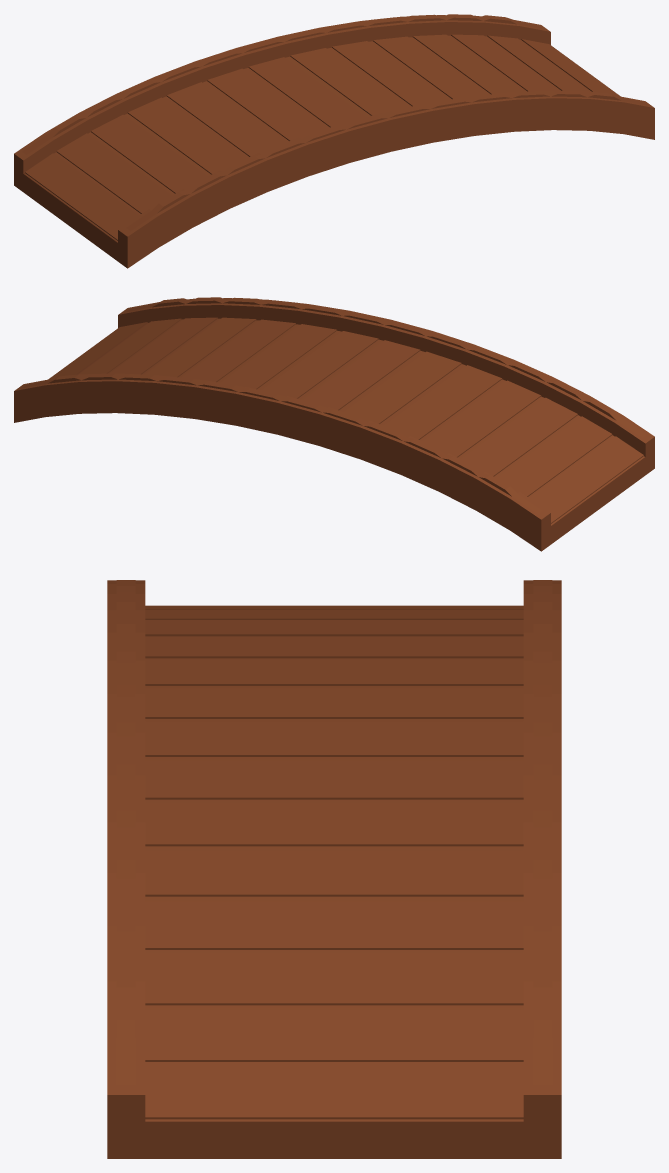
The model's file is Bridge_new01.fbx.
The picture shows the model from 3 angles, top to bottom: view 1: azimuth 30°, elevation 25°; view 2: azimuth 150°, elevation 25°; view 3: azimuth 270°, elevation 25°; orthographic projection. The views are drawn at different scales.
Visible parts, largest first — view 1: Cube.001; view 2: Cube.001; view 3: Cube.001.
Part boxes in pixels (x1,y1,x2,y2): Cube.001: (14, 14, 654, 268); Cube.001: (14, 297, 654, 551); Cube.001: (107, 580, 561, 1158).
Size of the model in its own units: 841 by 131 by 314.
